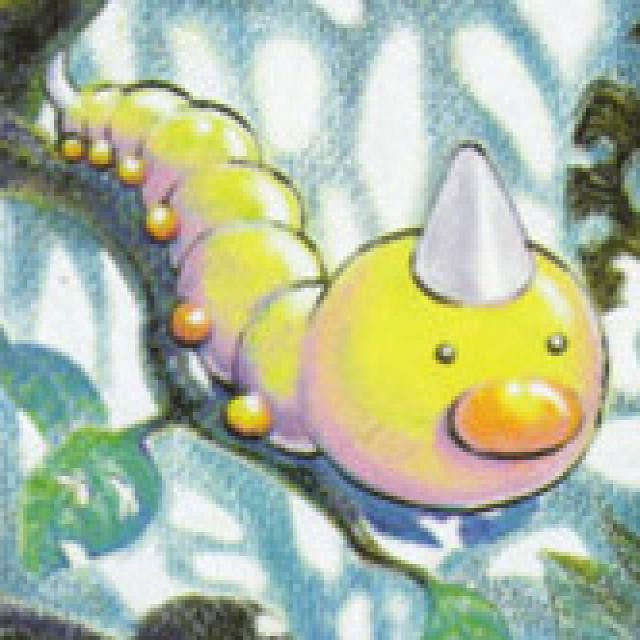Weedle: (49, 80, 604, 514)
